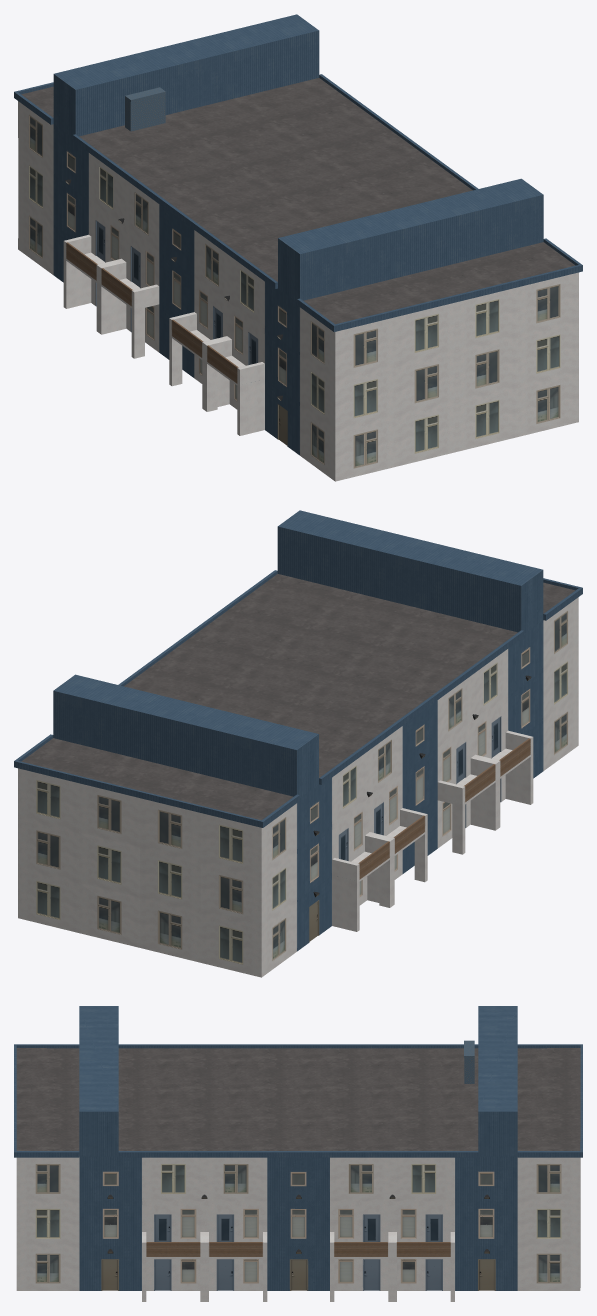
Rendered from Apartament.glb.
3 views of the same model, one above another, from view 1: azimuth 30°, elevation 25°; view 2: azimuth 150°, elevation 25°; view 3: azimuth 270°, elevation 25° (orthographic). The views are drawn at different scales.
Parts seen in each view (by area): view 1: lod 0, lod 0.001; view 2: lod 0, lod 0.001; view 3: lod 0, lod 0.001.
Part boxes in pixels (box(x1,y1,x2,y2)): lod 0: box(14, 14, 582, 481); lod 0.001: box(29, 152, 559, 413); lod 0: box(14, 510, 582, 977); lod 0.001: box(98, 612, 567, 963); lod 0: box(14, 1006, 582, 1301); lod 0.001: box(36, 1164, 560, 1282).
Size of the model in its own units: 18.29 by 12 by 34.53.
Materials: 3 (3 with a texture image).
